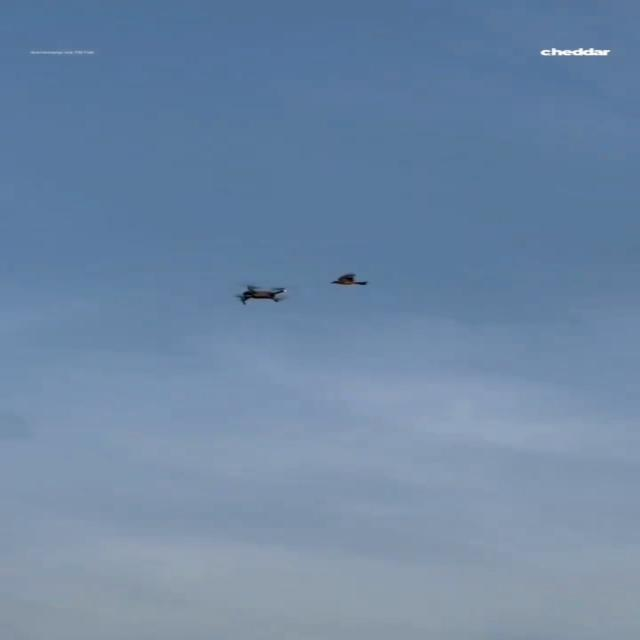bird: (330, 272, 368, 286)
drone: (234, 284, 286, 306)
